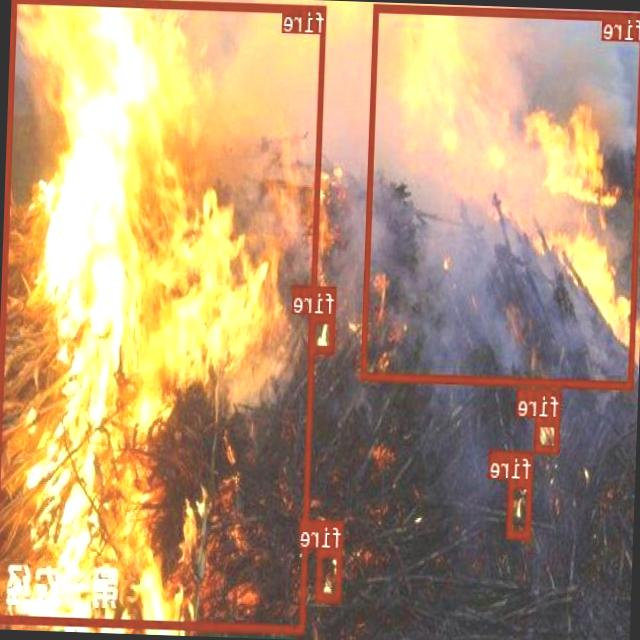fire: (0, 0, 327, 631), (361, 3, 640, 388), (316, 548, 344, 601), (507, 478, 532, 536), (309, 312, 336, 352), (536, 416, 560, 451)
